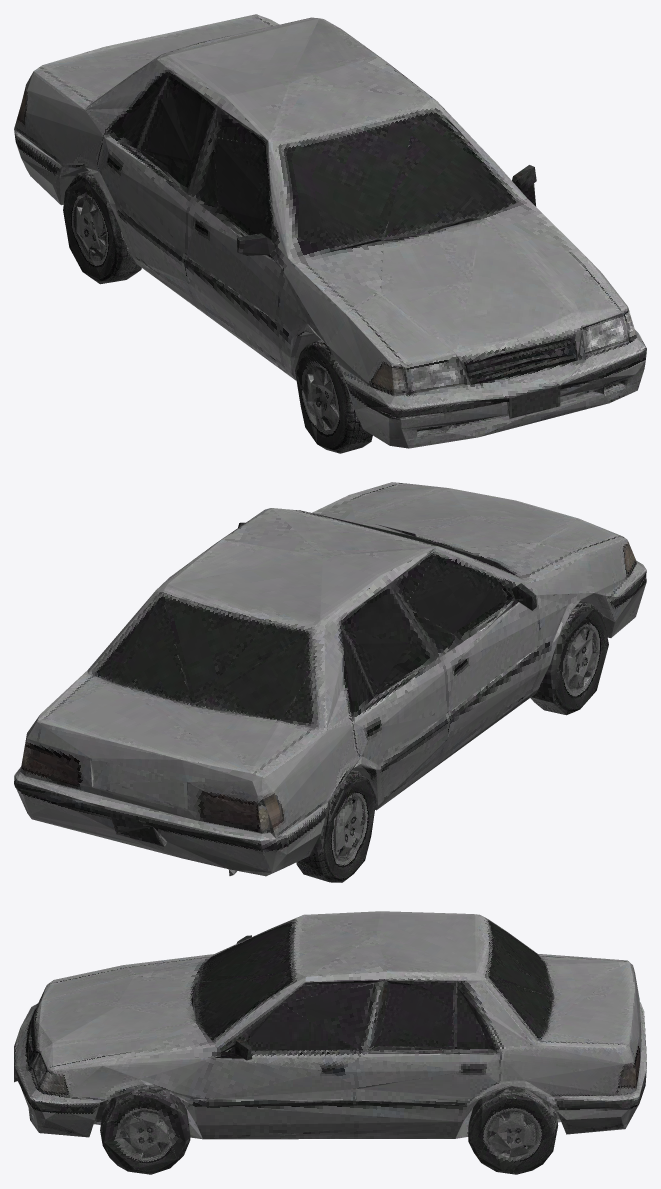
File: sedan_ash.glb
3 renders of one model, top to bottom at view 1: azimuth 30°, elevation 25°; view 2: azimuth 150°, elevation 25°; view 3: azimuth 270°, elevation 25°, orthographic. The views are drawn at different scales.
Parts seen in each view (by area): view 1: car_sedan; view 2: car_sedan; view 3: car_sedan.
Boxes of the visible parts, x1,y1,x2,y2 form: car_sedan: (14,14,646,453); car_sedan: (14,482,646,882); car_sedan: (14,911,646,1174).
Bounding box in the file's own units: 1.96 × 1.48 × 4.55.
1 material, 1 textured.
